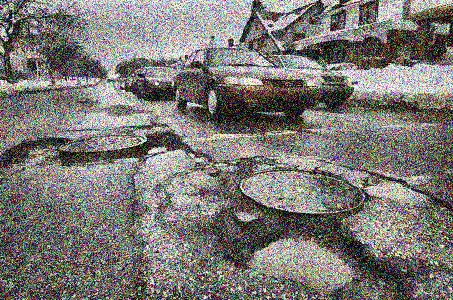pothole: (214, 203, 419, 299), (1, 134, 71, 172), (142, 126, 193, 159)
